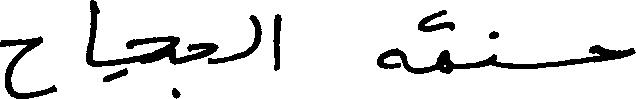X: (127, 31, 178, 98), (0, 31, 41, 98), (589, 40, 635, 67), (377, 43, 408, 76), (437, 5, 451, 78), (188, 38, 217, 68), (86, 0, 97, 71), (487, 26, 498, 71), (274, 9, 280, 75), (252, 10, 260, 57)
